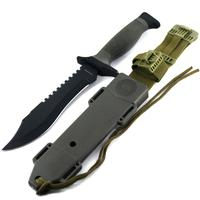knife: (1, 14, 157, 154)
